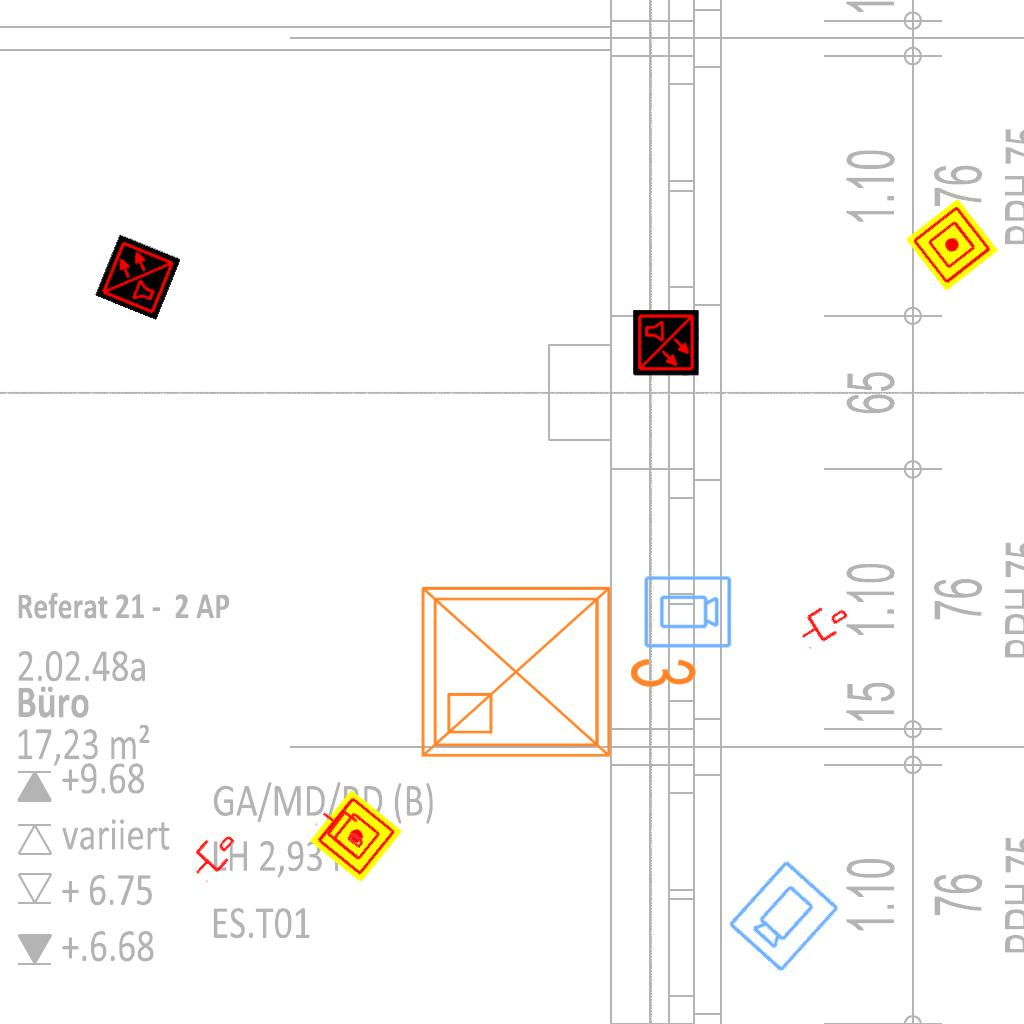Datenanschluss_einfach: (183, 825, 243, 885), (312, 799, 374, 857), (792, 596, 854, 652)
Einbaudownlights_LED_Konferenzraeume: (407, 564, 707, 772)
KFO_Kamera_mit_Festobjektiv: (724, 855, 843, 976), (642, 574, 733, 651)
NAM-Nichtautomatischer_Melder: (905, 198, 999, 292), (309, 789, 403, 883)
OKW_Multisensormelder_(Kombination_optischer_Rauch-Kahlenmonoxid_Waerme-Melder): (95, 234, 181, 320), (633, 310, 699, 376)
